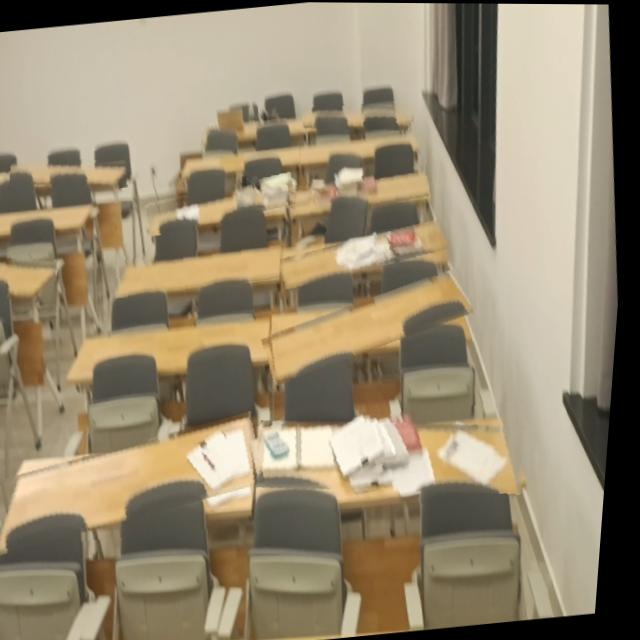Non-empty: (6, 417, 264, 549), (261, 425, 526, 493), (289, 221, 452, 288), (153, 172, 292, 234), (294, 171, 432, 218), (208, 116, 311, 140)
empty: (277, 275, 477, 381), (120, 245, 286, 291), (13, 158, 130, 186), (0, 259, 60, 300), (305, 106, 413, 128)
